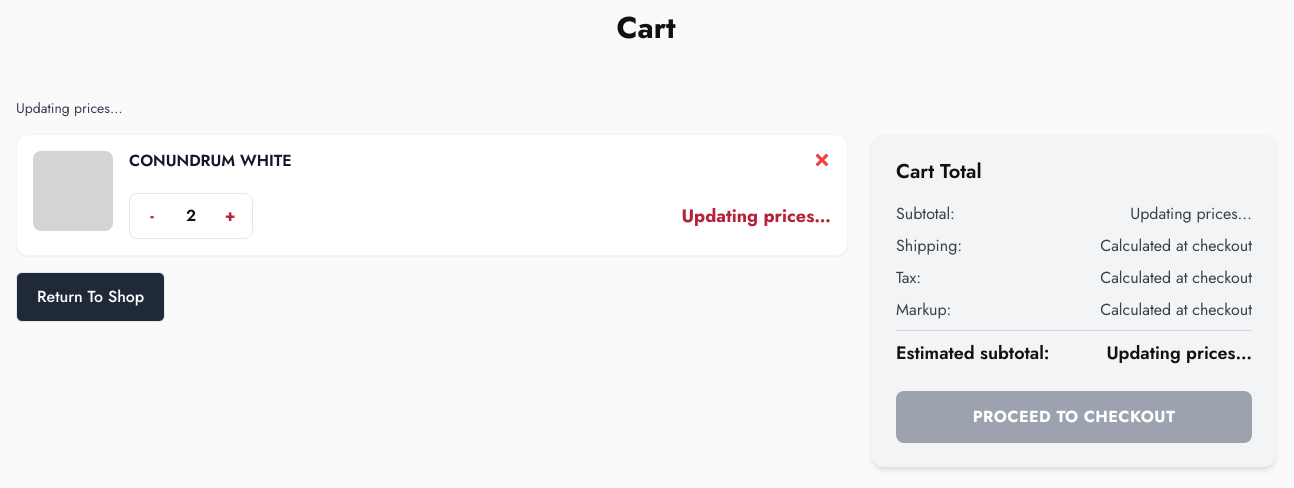
Test case: a response for a removed cart line cannot resurrect it
Step 1. Click the button named "Remove item" → click(822, 160), box [805,143,839,177]
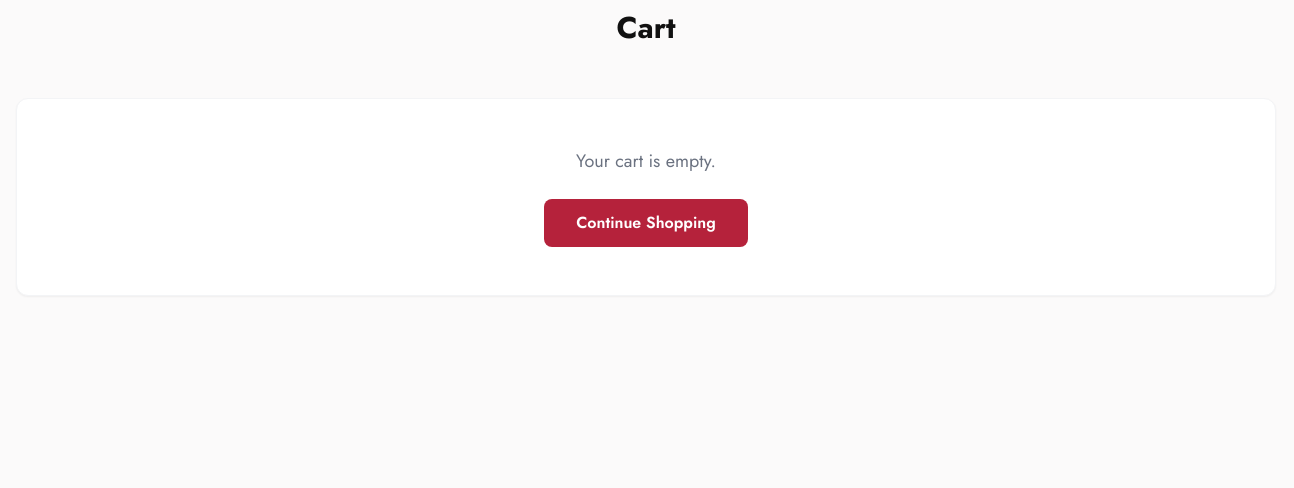
Expected: the text "Your cart is empty." is shown, [576,148,716,174]
